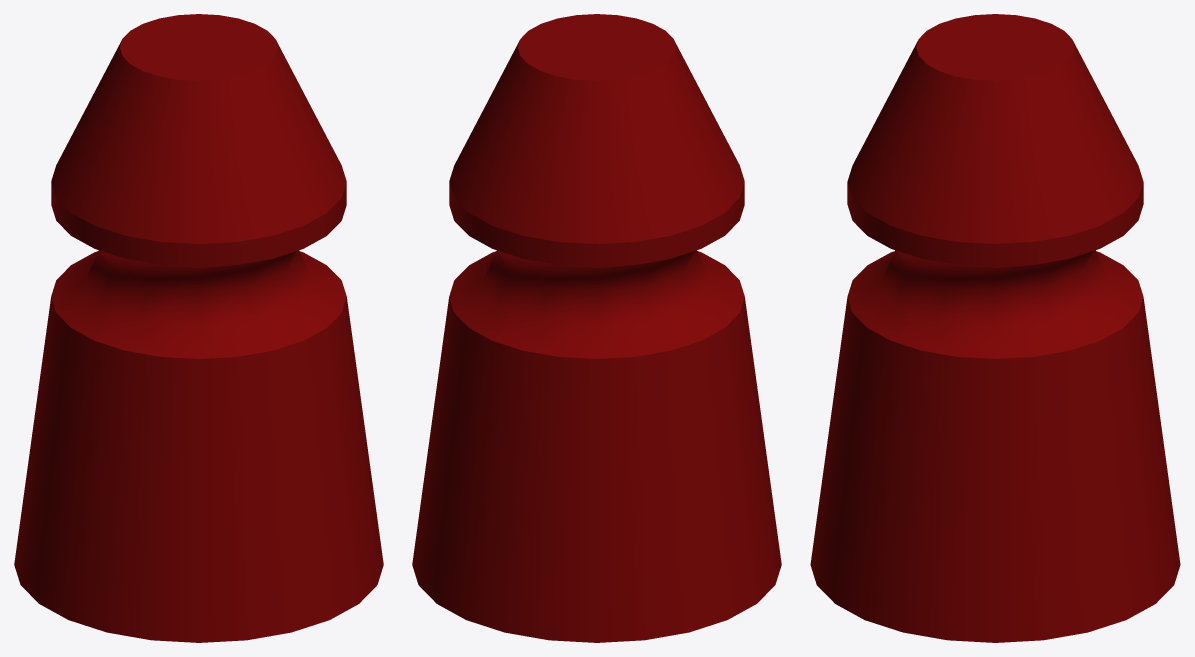
File: PegPlasticT16.fbx
The picture shows the model from 3 angles, left to right: view 1: azimuth 30°, elevation 25°; view 2: azimuth 150°, elevation 25°; view 3: azimuth 270°, elevation 25°; orthographic projection.
Parts seen in each view (by area): view 1: PegPlasticT16; view 2: PegPlasticT16; view 3: PegPlasticT16.
Boxes of the visible parts, left/top/right/bottom form: PegPlasticT16: left=14, top=14, right=383, bottom=642; PegPlasticT16: left=412, top=14, right=781, bottom=642; PegPlasticT16: left=810, top=14, right=1180, bottom=642.
Size of the model in its own units: 1.79 by 2.77 by 1.79.
